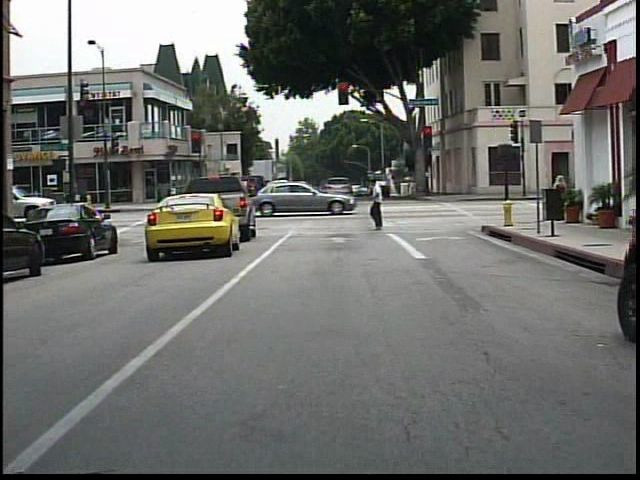person: (368, 178, 394, 234), (548, 172, 572, 221)
